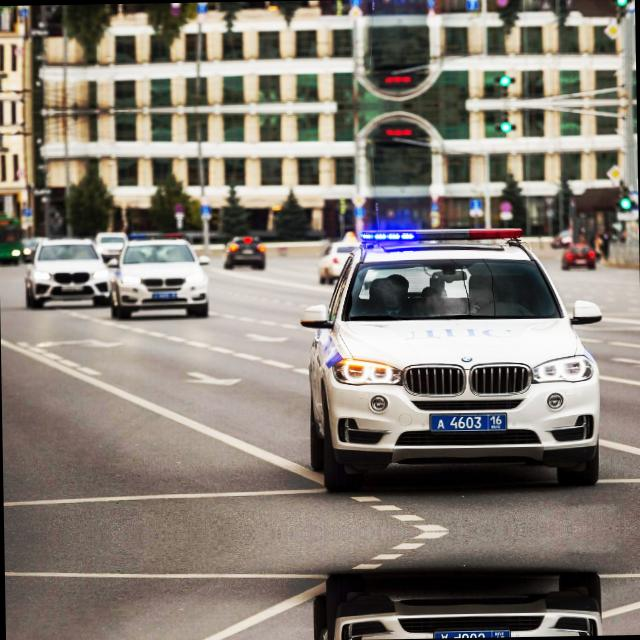police: (428, 413, 507, 432), (430, 628, 510, 638)
